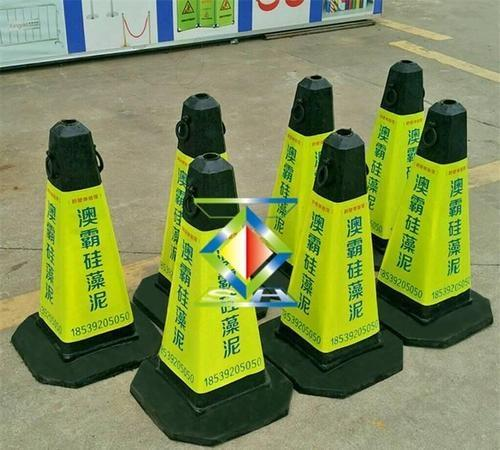cone_barrel: (146, 155, 276, 422), (15, 120, 148, 366), (369, 84, 487, 343), (270, 126, 390, 378), (149, 95, 243, 305), (262, 78, 335, 260), (359, 59, 427, 242)
